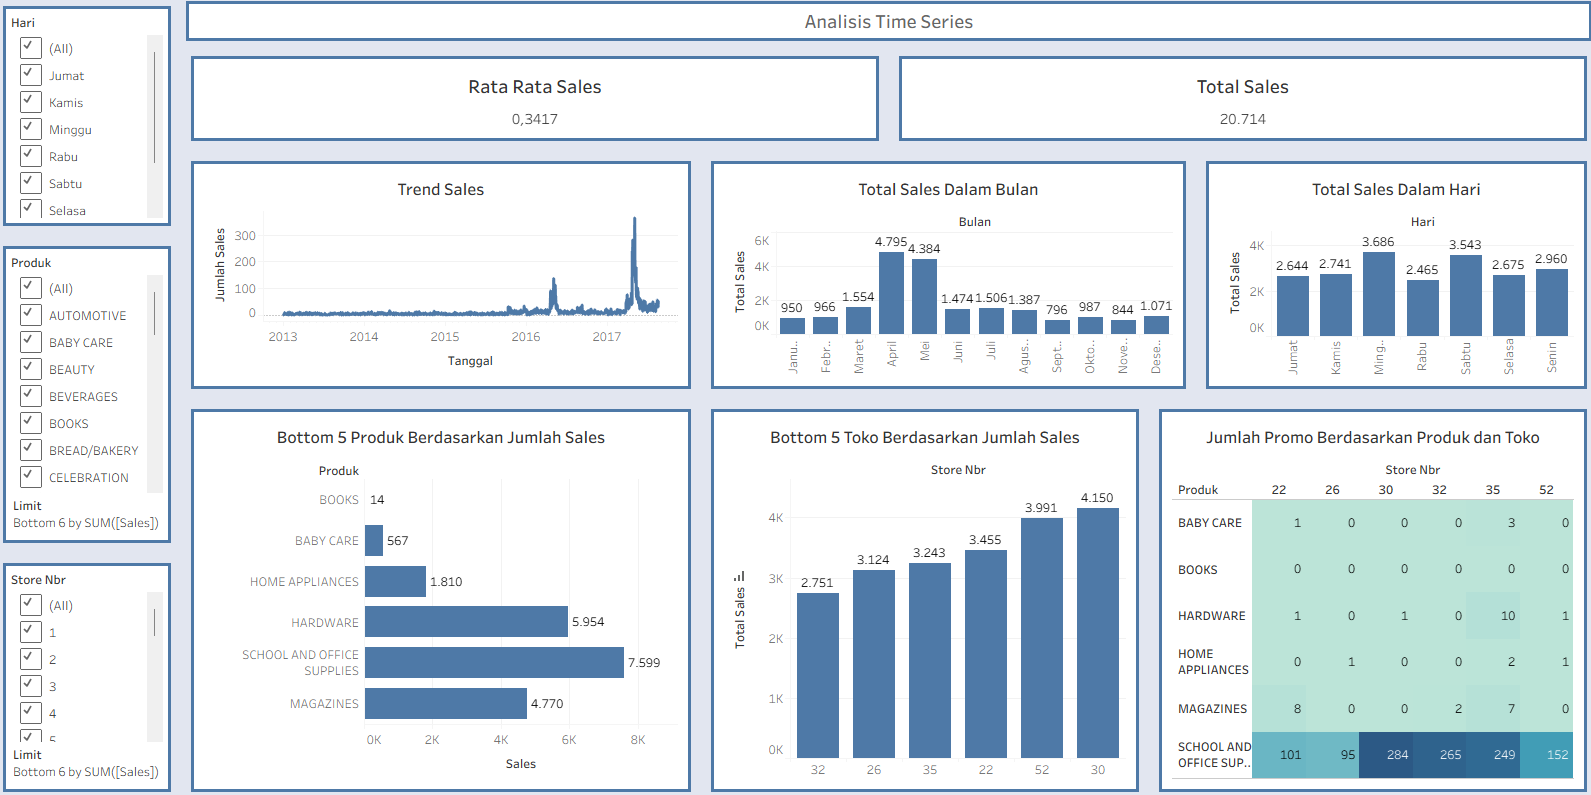

The page's visual inventory and layout, read from the dashboard file:
{"tool":"tableau","page":{"name":"Dashboard 1","canvas":[1000,1000],"units":"permille","ordinal":0},"visuals":[{"type":"filter","title":"hari","param":"[federated.1t0t2tj1mdw8mk186uttq01n2ojy].[none:nama_hari:nk]","box":[0,0,117.2,297.8]},{"type":"text","box":[117.2,0,882.8,62]},{"type":"worksheet","title":"mean sales","mark":"Automatic","box":[117.2,62,441.4,130.3]},{"type":"worksheet","title":"sum sales","mark":"Automatic","box":[558.6,62,441.4,130.3]},{"type":"worksheet","title":"year","mark":"Automatic","rows":["sales"],"cols":["date"],"box":[117.2,192.3,324.2,307.7]},{"type":"worksheet","title":"month","mark":"Bar","rows":["sales"],"cols":["bulan"],"box":[441.4,192.3,308.6,307.7]},{"type":"worksheet","title":"hari","mark":"Bar","rows":["sales"],"cols":["nama_hari"],"box":[750,192.3,250,307.7]},{"type":"filter","title":"hari","param":"[federated.1t0t2tj1mdw8mk186uttq01n2ojy].[none:family:nk]","box":[0,297.8,117.2,393.3]},{"type":"worksheet","title":"produk","mark":"Automatic","rows":["family"],"cols":["sales"],"box":[117.2,500,324.2,500]},{"type":"worksheet","title":"toko","mark":"Automatic","rows":["sales"],"cols":["store_nbr"],"box":[441.4,500,308.6,500]},{"type":"worksheet","title":"pro tok prom","mark":"Square","rows":["family"],"cols":["store_nbr"],"box":[750,500,250,500]},{"type":"filter","title":"hari","param":"[federated.1t0t2tj1mdw8mk186uttq01n2ojy].[none:store_nbr:ok]","box":[0,691.1,117.2,308.9]}]}

Visuals, with their boxes on the dashboard's canvas, which has no fixed pixel size, in thousandths of its width and height (x1, y1, x2, y2). These are canvas units, not pixel positions in the 1591x795 screenshot, which may show the page scaled, cropped or inside an application window:
"hari" filter: rect(0, 0, 117, 298)
text: rect(117, 0, 1000, 62)
"mean sales" worksheet: rect(117, 62, 559, 192)
"sum sales" worksheet: rect(559, 62, 1000, 192)
"year" worksheet: rect(117, 192, 441, 500)
"month" worksheet (Bar marks): rect(441, 192, 750, 500)
"hari" worksheet (Bar marks): rect(750, 192, 1000, 500)
"hari" filter: rect(0, 298, 117, 691)
"produk" worksheet: rect(117, 500, 441, 1000)
"toko" worksheet: rect(441, 500, 750, 1000)
"pro tok prom" worksheet (Square marks): rect(750, 500, 1000, 1000)
"hari" filter: rect(0, 691, 117, 1000)
